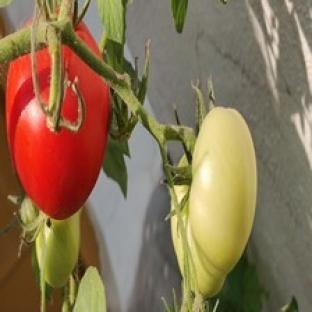Tomato: (6, 46, 110, 218), (183, 108, 256, 296), (35, 211, 80, 288)
